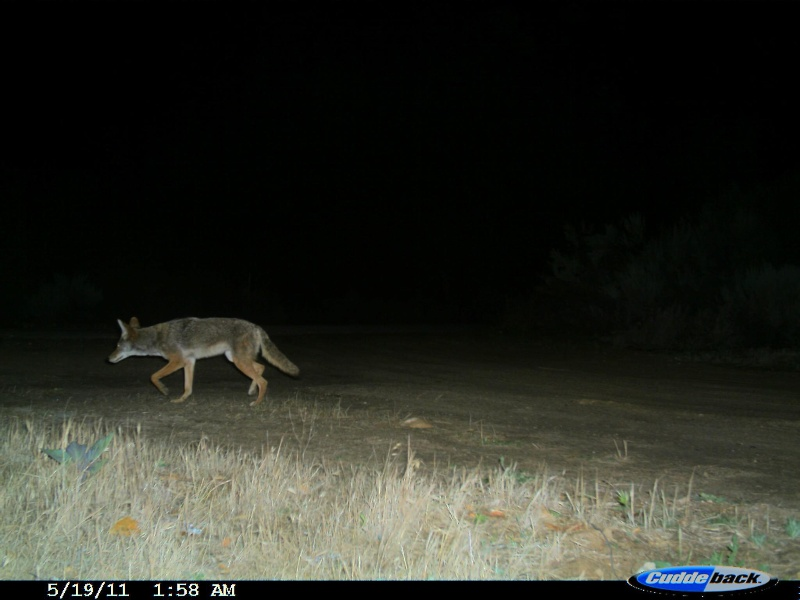coyote: (102, 310, 304, 408)
